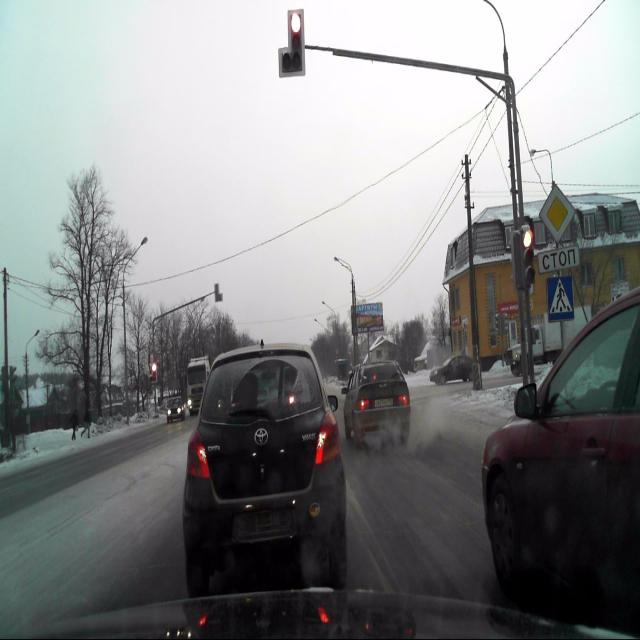road sign: (539, 186, 573, 244), (546, 273, 575, 322), (538, 244, 579, 271)
